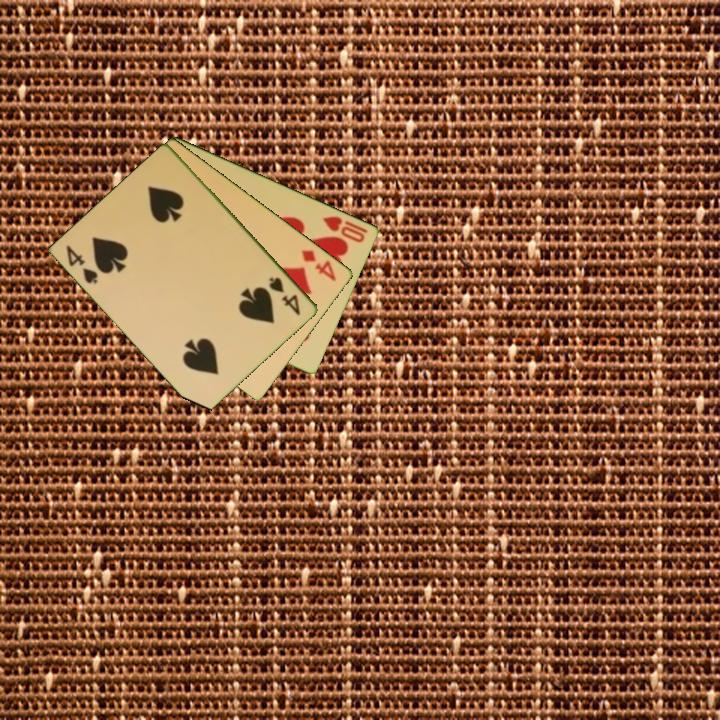10h: (319, 212, 368, 245)
4d: (298, 246, 339, 284)
4s: (266, 273, 304, 319), (63, 242, 101, 287)
